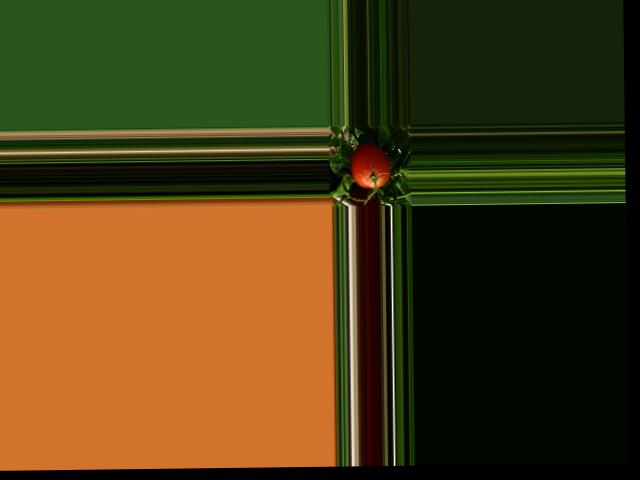tomato: (351, 144, 391, 188)
